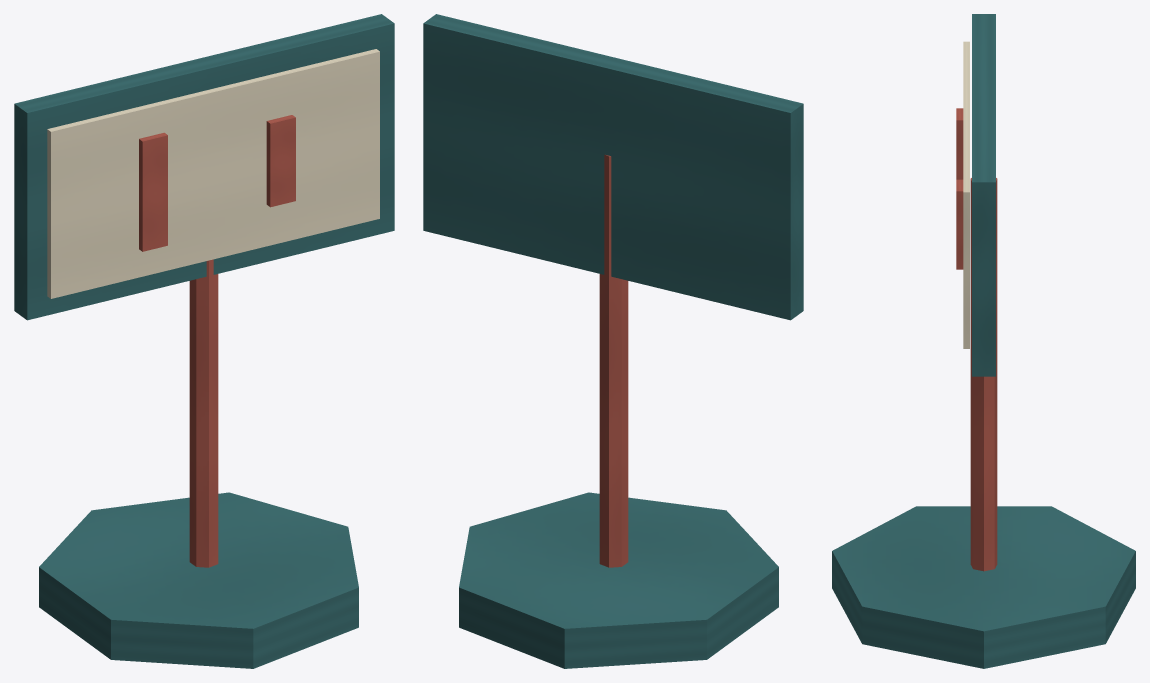
The model's file is atlas100-s032-a11.lod1.glb.
3 renders of one model, left to right at view 1: azimuth 30°, elevation 25°; view 2: azimuth 150°, elevation 25°; view 3: azimuth 270°, elevation 25°, orthographic. The views are drawn at different scales.
Visible parts, largest first — view 1: atlas100-s032-a11:part-003, atlas100-s032-a11:part-000, atlas100-s032-a11:part-002, atlas100-s032-a11:part-001, atlas100-s032-a11:part-004, atlas100-s032-a11:part-006; view 2: atlas100-s032-a11:part-002, atlas100-s032-a11:part-000, atlas100-s032-a11:part-001; view 3: atlas100-s032-a11:part-000, atlas100-s032-a11:part-002, atlas100-s032-a11:part-001, atlas100-s032-a11:part-003, atlas100-s032-a11:part-006, atlas100-s032-a11:part-004.
Boxes of the visible parts, bbox=[...] form: atlas100-s032-a11:part-003: bbox=[47, 49, 379, 298]; atlas100-s032-a11:part-000: bbox=[39, 492, 358, 668]; atlas100-s032-a11:part-002: bbox=[14, 14, 394, 320]; atlas100-s032-a11:part-001: bbox=[189, 259, 218, 567]; atlas100-s032-a11:part-004: bbox=[139, 132, 167, 251]; atlas100-s032-a11:part-006: bbox=[266, 115, 295, 207]; atlas100-s032-a11:part-002: bbox=[423, 14, 803, 320]; atlas100-s032-a11:part-000: bbox=[459, 492, 778, 668]; atlas100-s032-a11:part-001: bbox=[599, 154, 628, 567]; atlas100-s032-a11:part-000: bbox=[832, 506, 1135, 668]; atlas100-s032-a11:part-002: bbox=[972, 14, 995, 376]; atlas100-s032-a11:part-001: bbox=[970, 178, 997, 571]; atlas100-s032-a11:part-003: bbox=[963, 41, 969, 348]; atlas100-s032-a11:part-006: bbox=[956, 179, 963, 269]; atlas100-s032-a11:part-004: bbox=[956, 108, 963, 179].
Size of the model in its own units: 1.15 by 1.61 by 0.8774.
3 materials, 3 textured.
